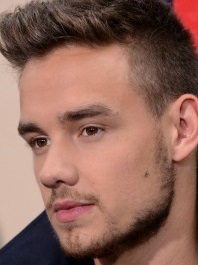tahilalat: (143, 170, 150, 177)
